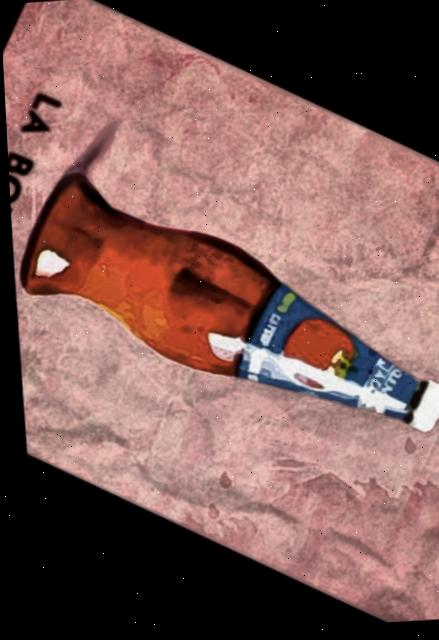La Botella: (2, 2, 439, 625)
